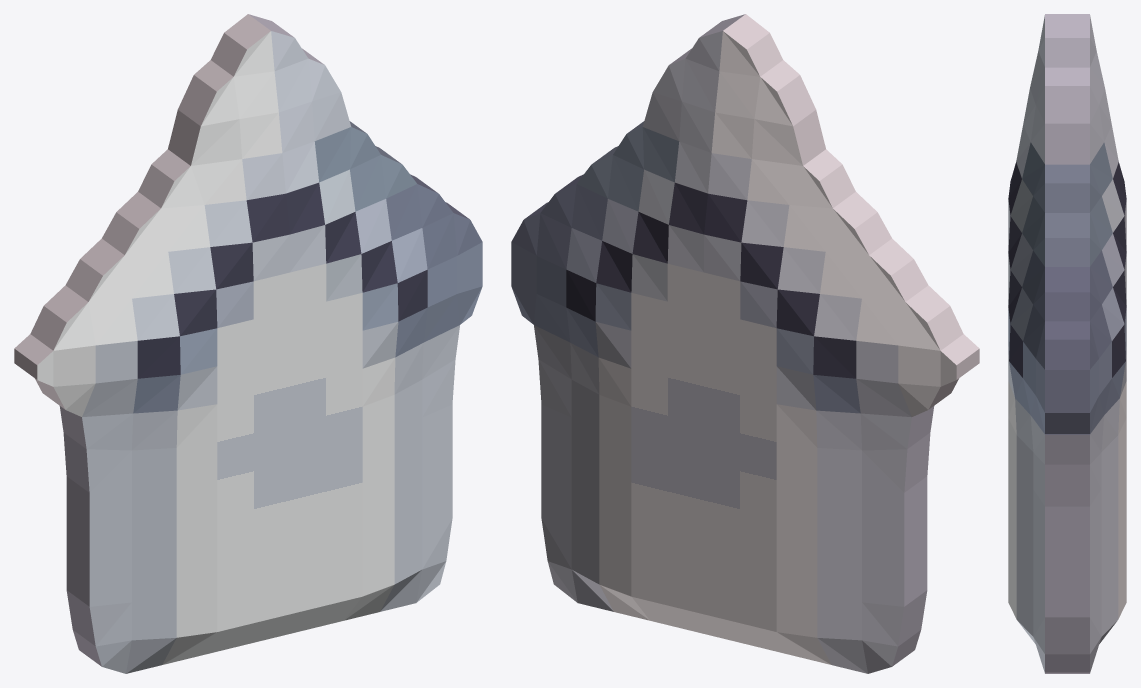
Rendered from pixel_doghouse.glb.
3 renders of one model, left to right at view 1: azimuth 30°, elevation 25°; view 2: azimuth 150°, elevation 25°; view 3: azimuth 270°, elevation 25°, orthographic. The views are drawn at different scales.
Parts seen in each view (by area): view 1: doghouse; view 2: doghouse; view 3: doghouse.
Part boxes in pixels (box(x1,y1,x2,y2)): doghouse: box(14, 14, 482, 673); doghouse: box(511, 14, 979, 673); doghouse: box(1008, 14, 1126, 673).
Size of the model in its own units: 0.8435 by 1.1 by 0.1994.
Materials: 1 (1 with a texture image).
